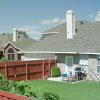Chimney: (62, 4, 81, 43)
